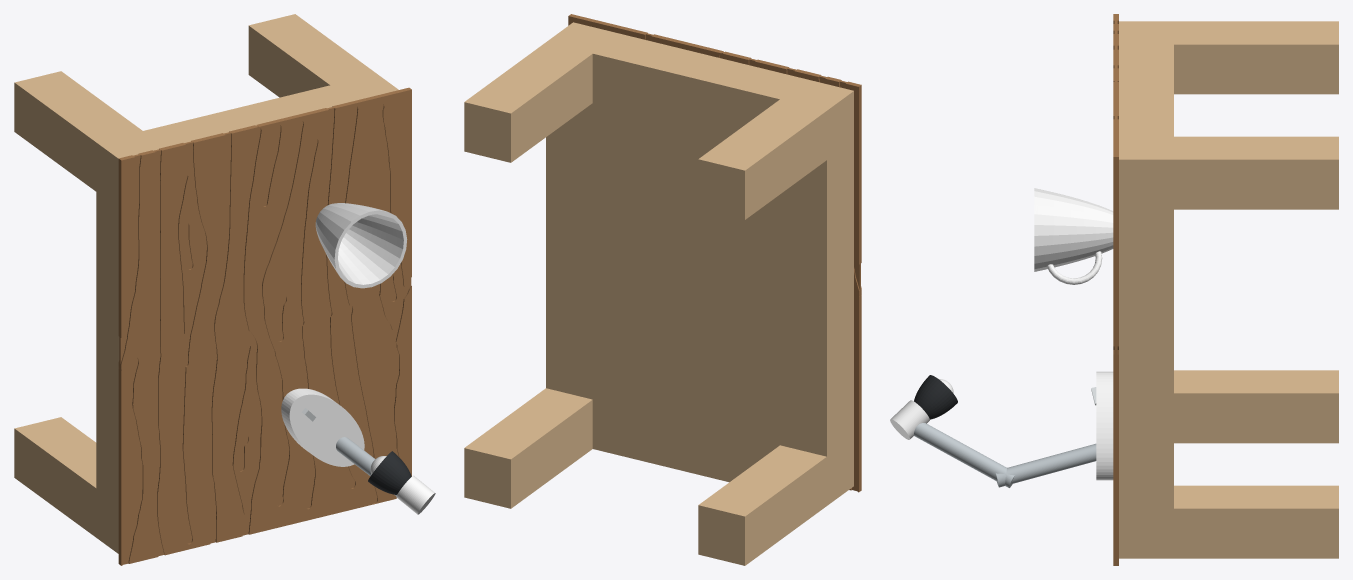
File: tinker.obj
3 views of the same model, side by side, from view 1: azimuth 30°, elevation 25°; view 2: azimuth 150°, elevation 25°; view 3: azimuth 270°, elevation 25° (orthographic).
Parts seen in each view (by area): view 1: group_0_11107152, group_0_14860437, group_0_16448250, group_0_2829873, group_0_12568524; view 2: group_0_14860437, group_0_11107152; view 3: group_0_14860437, group_0_16448250, group_0_12568524, group_0_11107152, group_0_2829873.
Part boxes in pixels (x1,y1,x2,y2): group_0_11107152: (118,87,411,565); group_0_14860437: (14,14,398,553); group_0_16448250: (281,203,435,514); group_0_2829873: (368,451,411,494); group_0_12568524: (336,437,396,495); group_0_14860437: (464,22,853,565); group_0_11107152: (568,14,861,492); group_0_14860437: (1119,21,1338,558); group_0_16448250: (890,188,1113,480); group_0_12568524: (913,423,1096,487); group_0_11107152: (1113,14,1118,565); group_0_2829873: (914,375,957,419).
Size of the model in its own units: 60 by 80 by 79.57.
